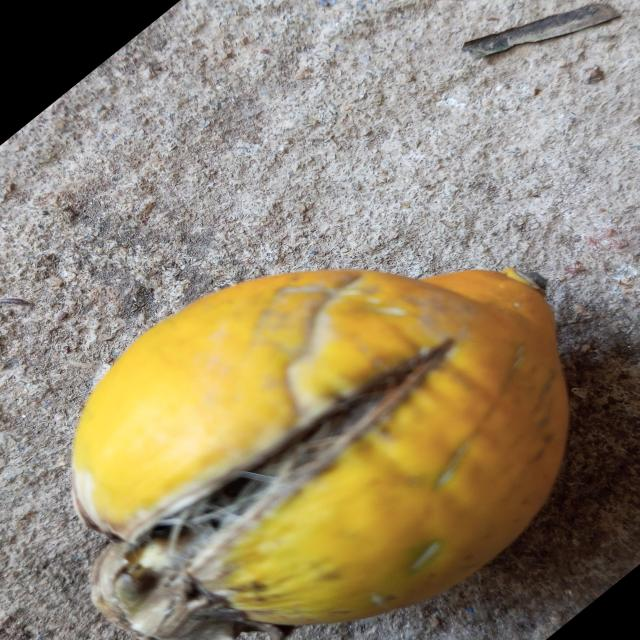damaged: (73, 269, 568, 640)
